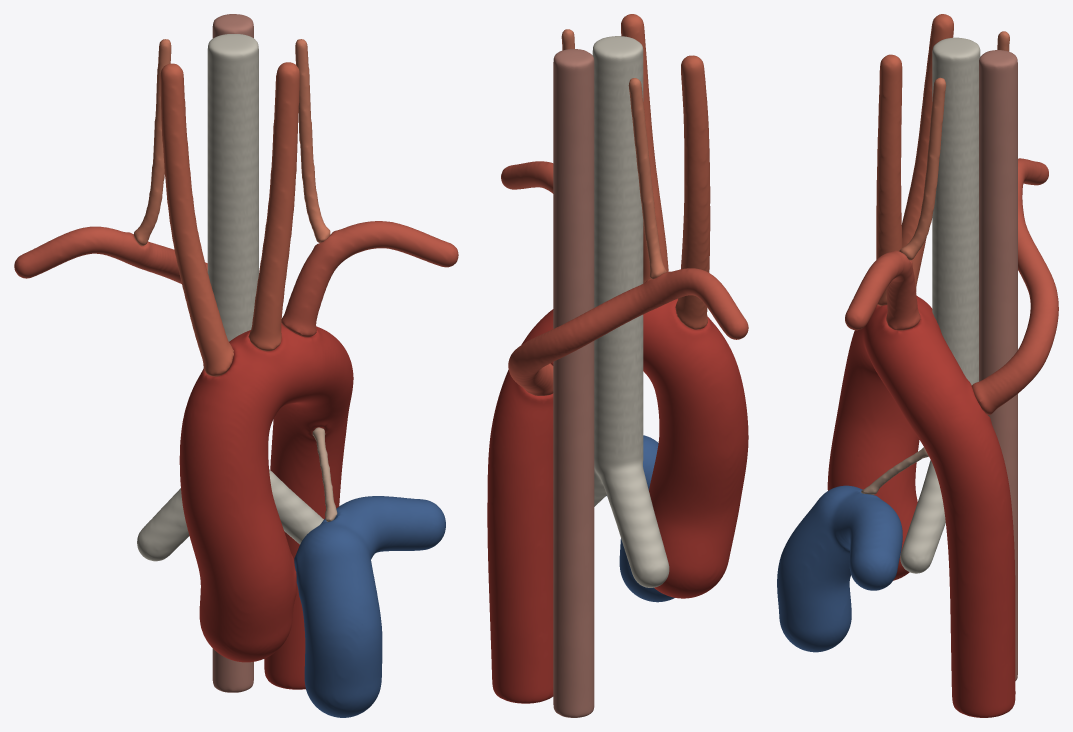
Rendered from aorta_arsa.glb.
The picture shows the model from 3 angles, left to right: view 1: azimuth 30°, elevation 25°; view 2: azimuth 150°, elevation 25°; view 3: azimuth 270°, elevation 25°; orthographic projection. The views are drawn at different scales.
Parts seen in each view (by area): view 1: aorta, pulmonary_trunk, trachea, right_common_carotid, left_common_carotid, left_subclavian, right_subclavian, left_vertebral, oesophagus, right_vertebral, ligamentum_arteriosum; view 2: aorta, oesophagus, trachea, right_subclavian, right_common_carotid, right_vertebral, left_common_carotid, pulmonary_trunk, left_subclavian; view 3: aorta, trachea, oesophagus, pulmonary_trunk, right_subclavian, left_common_carotid, left_subclavian, right_common_carotid, left_vertebral, ligamentum_arteriosum.
Boxes of the visible parts, x1,y1,x2,y2 form: aorta: [179, 323, 353, 689]; pulmonary_trunk: [294, 496, 445, 717]; trachea: [137, 34, 323, 561]; right_common_carotid: [160, 63, 233, 376]; left_common_carotid: [248, 62, 299, 351]; left_subclavian: [281, 221, 458, 337]; right_subclavian: [14, 226, 207, 283]; left_vertebral: [295, 39, 330, 242]; oesophagus: [212, 14, 253, 692]; right_vertebral: [133, 39, 171, 245]; ligamentum_arteriosum: [312, 427, 337, 521]; aorta: [487, 298, 748, 703]; oesophagus: [553, 49, 594, 717]; trachea: [592, 36, 669, 587]; right_subclavian: [508, 268, 748, 395]; right_common_carotid: [675, 55, 710, 329]; right_vertebral: [628, 78, 666, 279]; left_common_carotid: [621, 14, 668, 283]; pulmonary_trunk: [606, 435, 674, 602]; left_subclavian: [501, 161, 553, 193]; aorta: [827, 295, 1015, 717]; trachea: [900, 37, 980, 573]; oesophagus: [979, 50, 1017, 680]; pulmonary_trunk: [777, 485, 902, 652]; right_subclavian: [972, 158, 1058, 414]; left_common_carotid: [876, 54, 902, 306]; left_subclavian: [845, 250, 920, 330]; right_common_carotid: [901, 14, 953, 291]; left_vertebral: [899, 77, 946, 260]; ligamentum_arteriosum: [861, 447, 928, 494].
Bounding box in the file's own units: 12.31 × 22.78 × 9.3.
